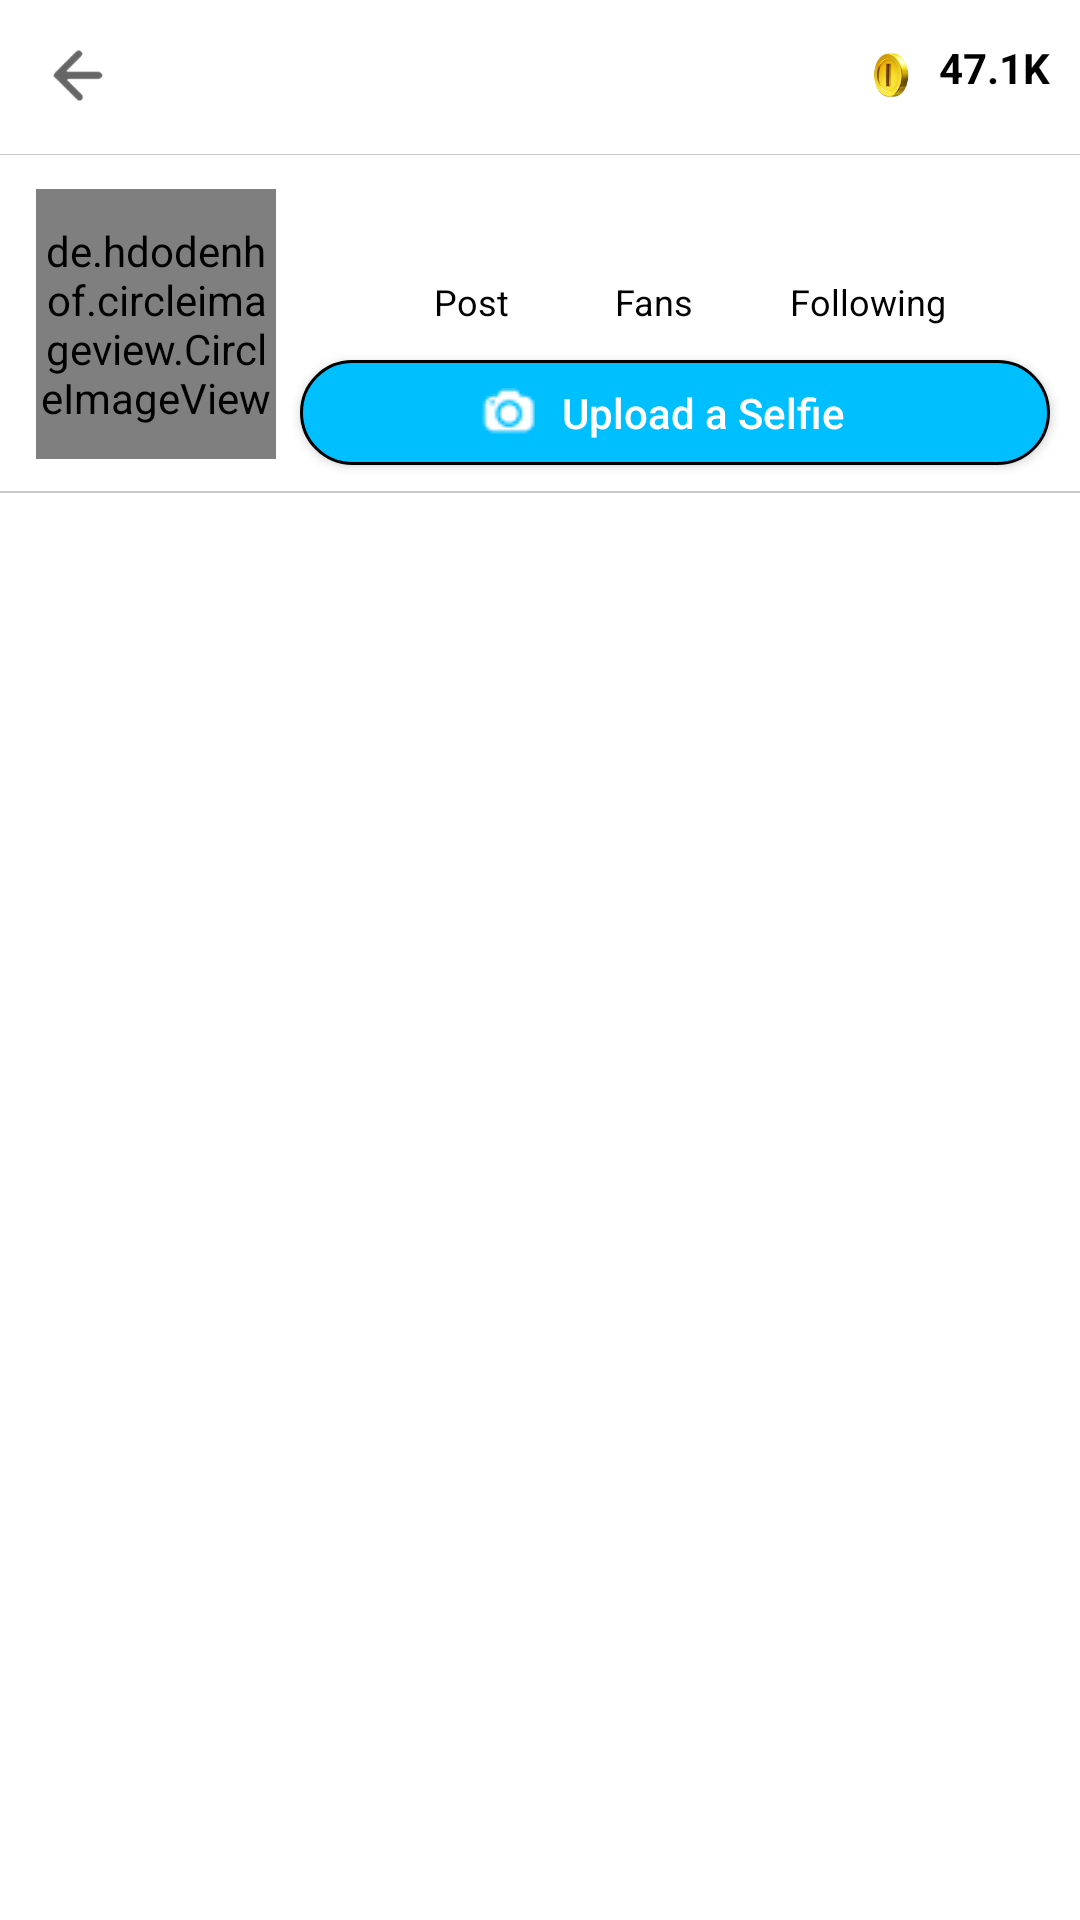

Icons on this 1080 x 1920 Android screen, each with its box as (x1, y1, x2, y2):
back: (53, 50, 103, 101)
coin: (874, 53, 909, 97)
